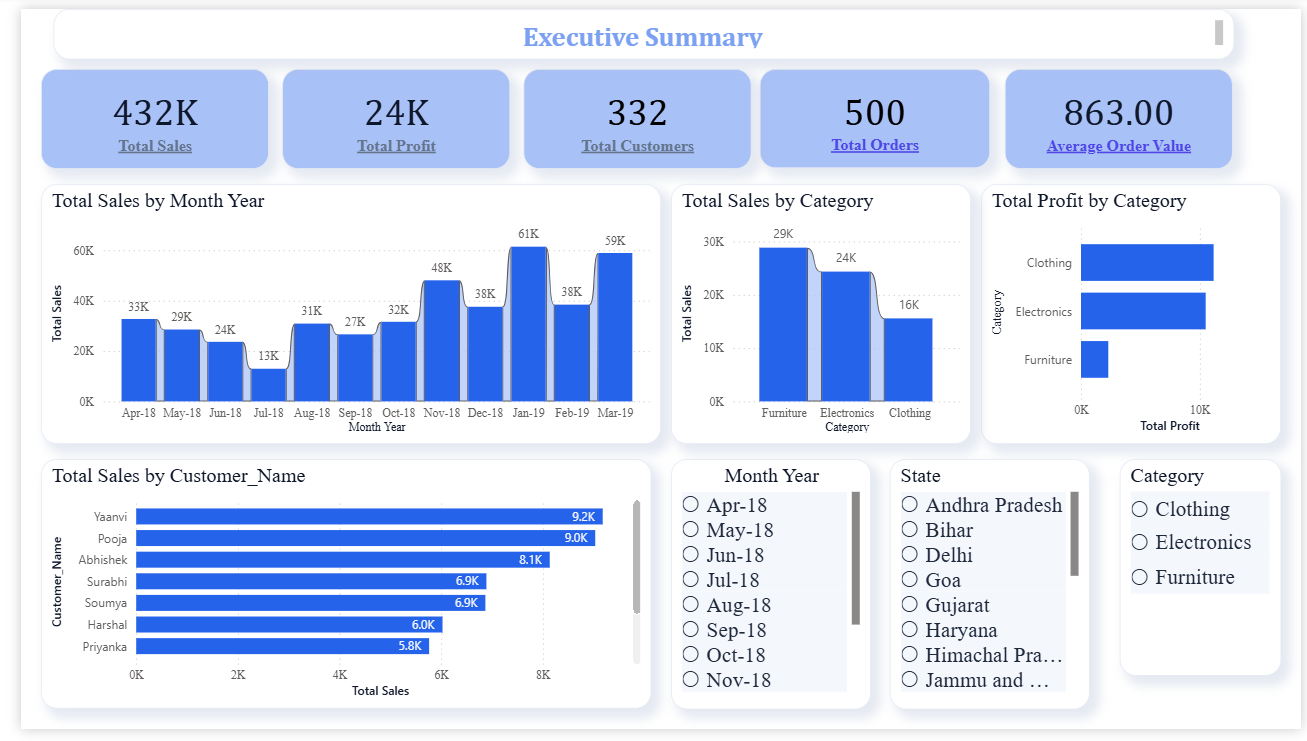

The page's visual inventory and layout, read from the dashboard file:
{"tool":"powerbi","page":{"name":"Executive Dashboard","canvas":[1280,720],"ordinal":0},"visuals":[{"type":"card","fields":{"Values":["Order_Details.Total Sales"]},"box":[20,60,228,100],"z":0},{"type":"card","fields":{"Values":["Order_Details.Total Orders"]},"box":[739.1,60,230.3,99.1],"z":1000},{"type":"barChart","fields":{"Y":["Order_Details.Total Profit"],"Category":["Order_Details.Category"]},"box":[960,175,300,260],"z":2000},{"type":"card","fields":{"Values":["Order_Details.Average Order Value"]},"box":[984,60,228,100],"z":3000},{"type":"clusteredBarChart","fields":{"Category":["Orders.Customer_Name"],"Y":["Order_Details.Total Sales"]},"box":[19.5,450.4,610.8,249.9],"z":4000},{"type":"card","fields":{"Values":["Order_Details.Total Profit"]},"box":[261,60,228,100],"z":5000},{"type":"listSlicer","fields":{"Values":["Orders.State"]},"box":[868.6,450,200,250],"z":6000},{"type":"card","fields":{"Values":["Order_Details.Total Customers"]},"box":[502,60,228,100],"z":7000},{"type":"listSlicer","fields":{"Values":["Orders.Month Year"]},"box":[650,450,200,250],"z":8000},{"type":"columnChart","fields":{"Y":["Order_Details.Total Sales"],"Category":["Orders.Month Year"]},"box":[20,175,620,260],"z":9000},{"type":"columnChart","fields":{"Category":["Order_Details.Category"],"Y":["Order_Details.Total Sales"]},"box":[650,175,300,260],"z":10000},{"type":"listSlicer","fields":{"Values":["Order_Details.Category"]},"box":[1098.6,450,161.4,217.1],"z":11000},{"type":"textbox","box":[31.9,0,1180.5,50.4],"z":12000}]}

Visuals, with their boxes in screenshot pixels (x1, y1, x2, y2), scaled from the page's 1280x720 canvas onto the 1307x741 screenshot:
card - Order_Details.Total Sales: rect(20, 62, 253, 165)
card - Order_Details.Total Orders: rect(755, 62, 990, 164)
barChart - Order_Details.Total Profit x Order_Details.Category: rect(980, 180, 1287, 448)
card - Order_Details.Average Order Value: rect(1005, 62, 1238, 165)
clusteredBarChart - Orders.Customer_Name x Order_Details.Total Sales: rect(20, 464, 644, 721)
card - Order_Details.Total Profit: rect(267, 62, 499, 165)
listSlicer - Orders.State: rect(887, 463, 1091, 720)
card - Order_Details.Total Customers: rect(513, 62, 745, 165)
listSlicer - Orders.Month Year: rect(664, 463, 868, 720)
columnChart - Order_Details.Total Sales x Orders.Month Year: rect(20, 180, 654, 448)
columnChart - Order_Details.Category x Order_Details.Total Sales: rect(664, 180, 970, 448)
listSlicer - Order_Details.Category: rect(1122, 463, 1287, 687)
textbox: rect(33, 0, 1238, 52)
